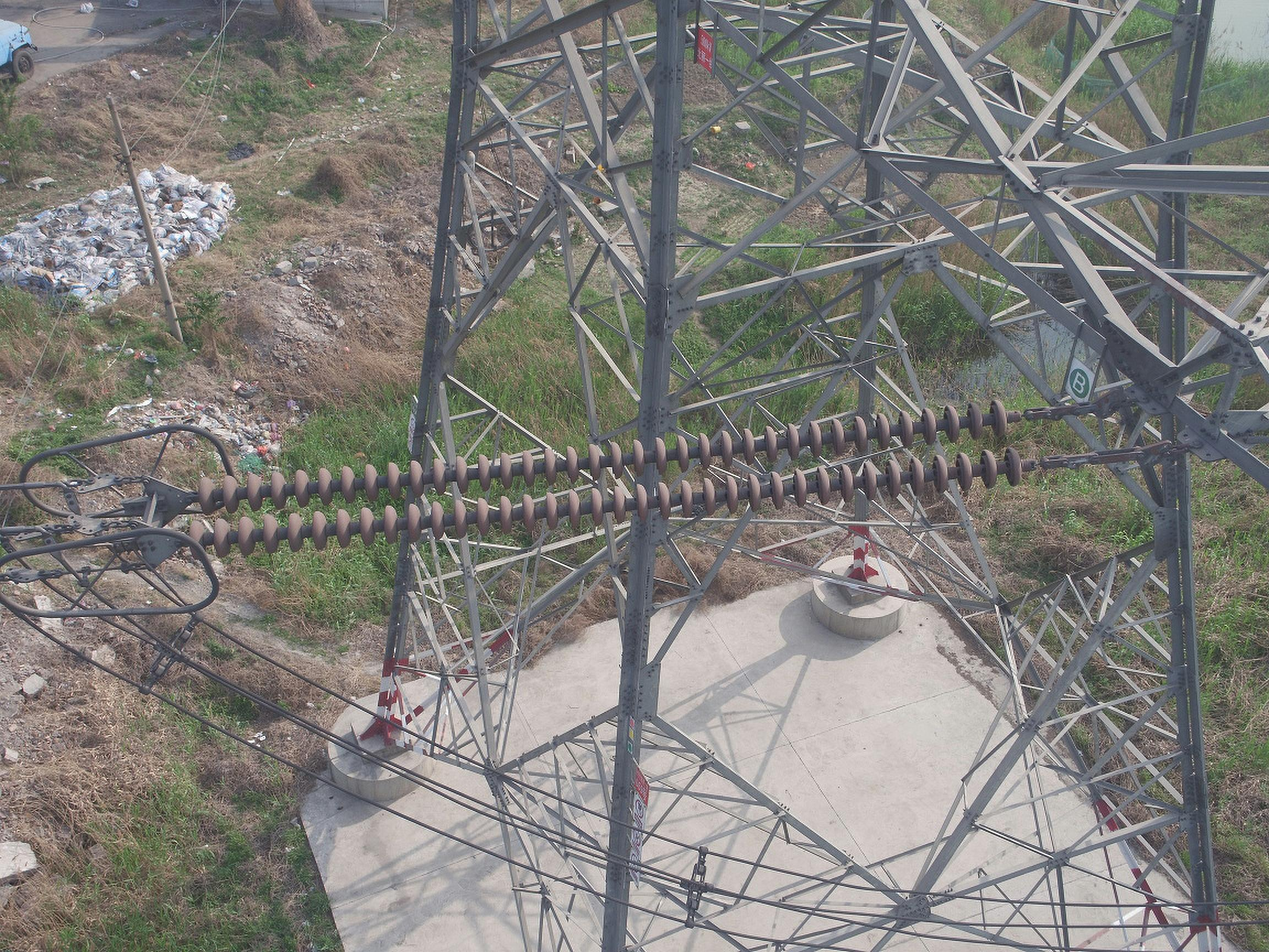insulator: (182, 396, 1027, 566)
